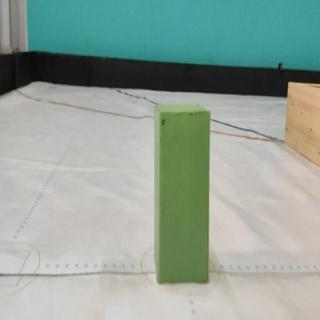greenbox: (152, 101, 212, 285)
